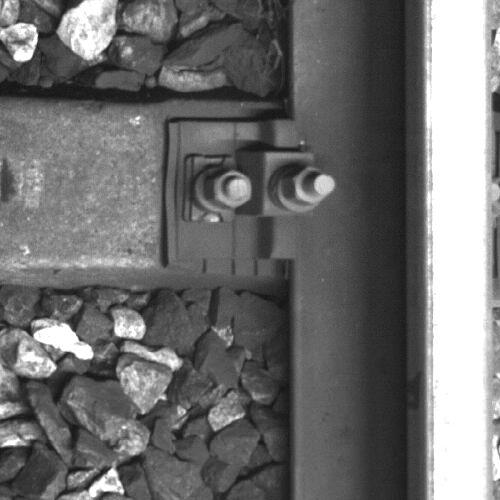kb: (175, 119, 336, 259)
nut: (285, 160, 336, 208), (202, 167, 255, 209)
rail: (424, 1, 493, 500)
tie_concr: (1, 102, 289, 274)
